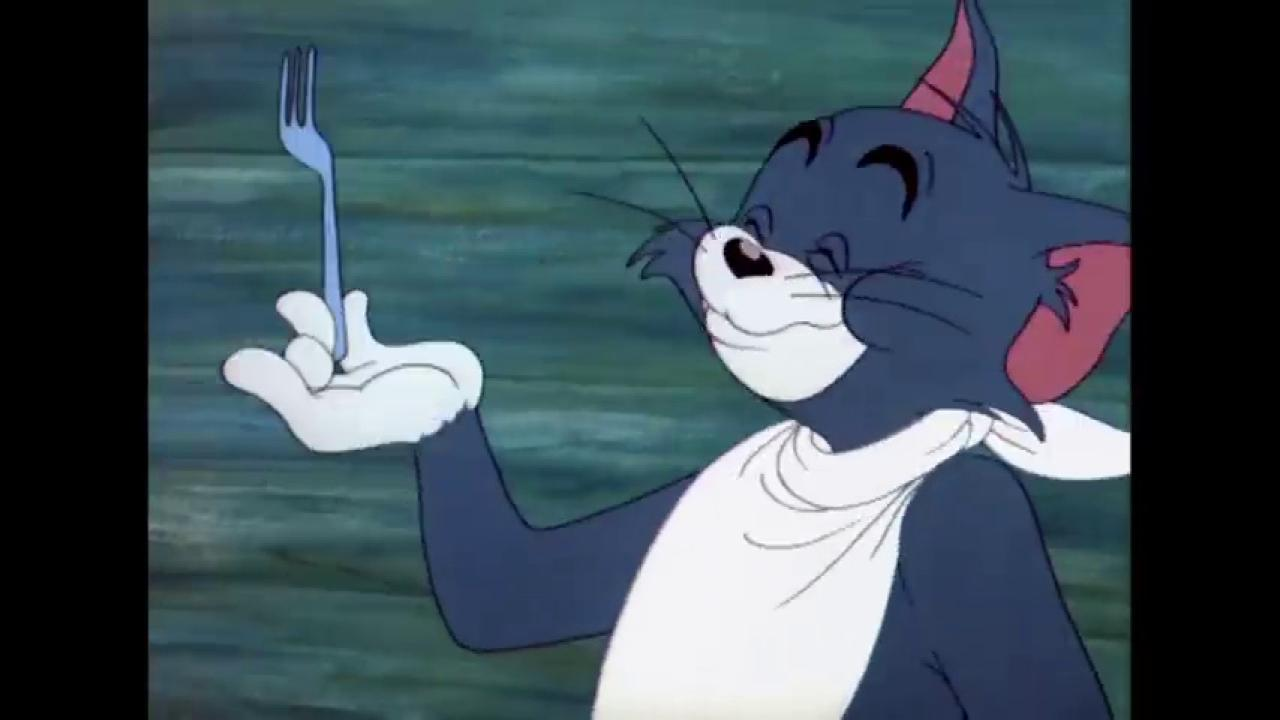Tom: (220, 0, 1132, 720)
